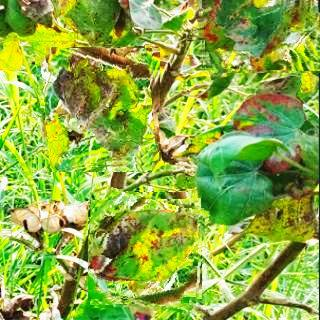blight: (88, 191, 205, 308)
leaf spot: (38, 48, 160, 170), (199, 0, 320, 73)
